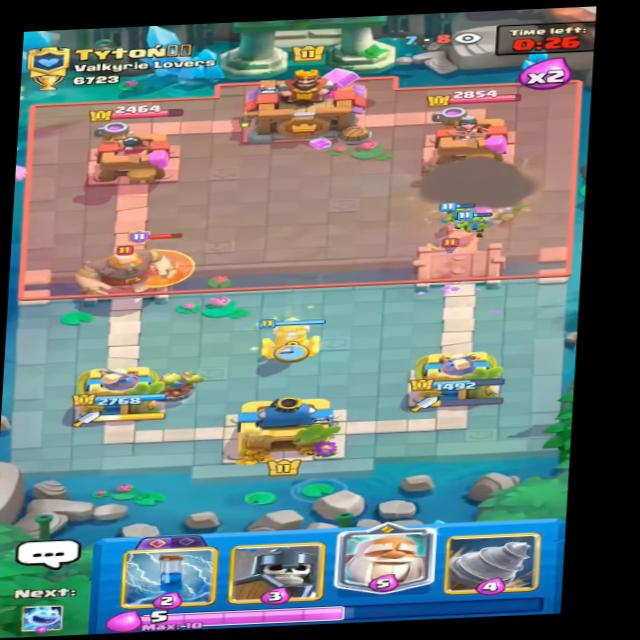Bat: (429, 236, 464, 261)
Evowizard: (119, 234, 194, 289)
Giant: (68, 241, 178, 295)
